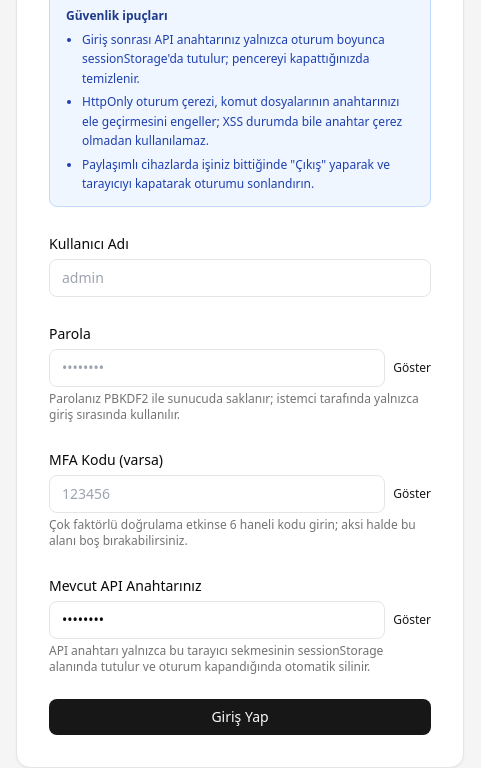
Test: LoginPanel › User Interactions › should toggle API key visibility when show/hide button is clicked
(page scrolled)
What coordinates should you click on to do the following:
click the button "Göster" below "Mevcut API Anahtarınız"
I would click on:
 (412, 620)
Its box is [393,612,431,628].
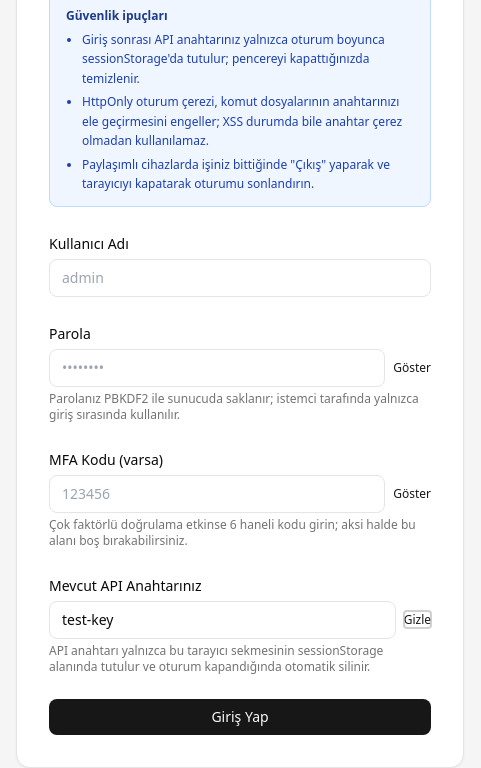
Check: the field labelled "Mevcut API Anahtarınız" shows its text, box [49,600,396,638]
What coordinates should you click on to do the following:
click the button named "göster"
I would click on:
 (417, 620)
Its box is [404,612,431,628].
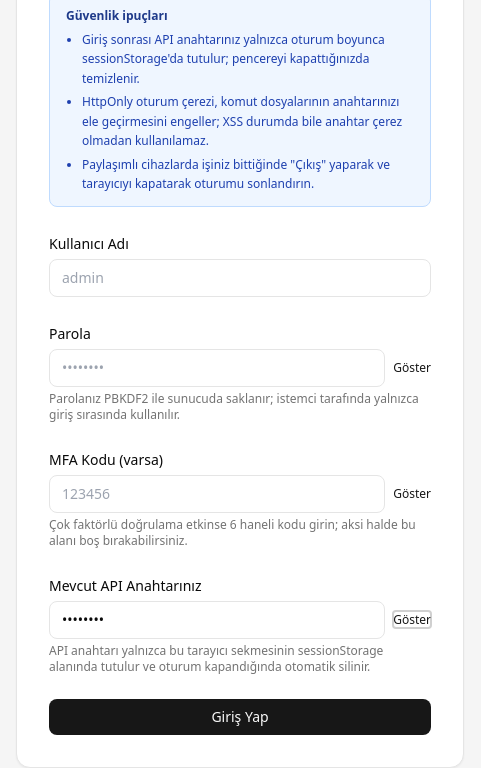
Check: the password field labelled "Mevcut API Anahtarınız" hides its text, box [49,600,385,638]
